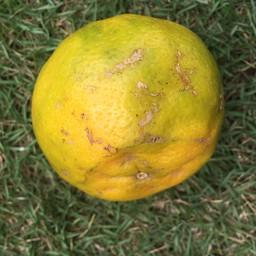Bad_orange: (31, 10, 224, 203)
